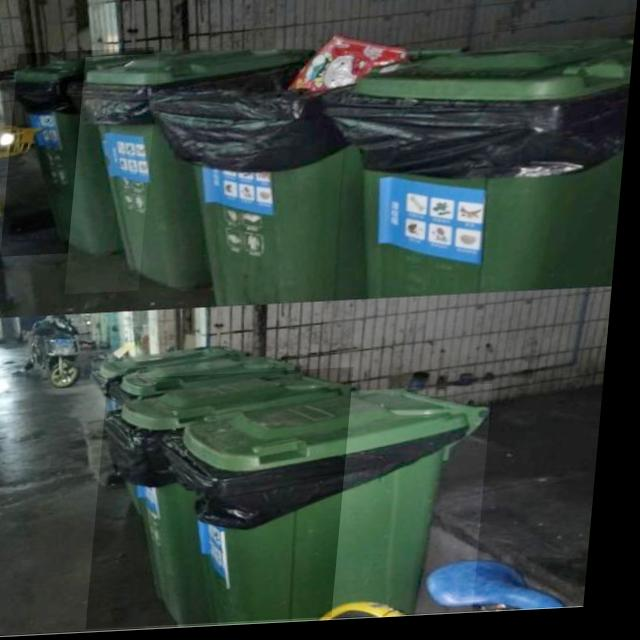garbage_bin: (157, 390, 500, 631), (322, 49, 634, 302), (97, 371, 361, 631), (70, 49, 309, 295), (5, 48, 155, 257)
overflow: (143, 36, 406, 311)
